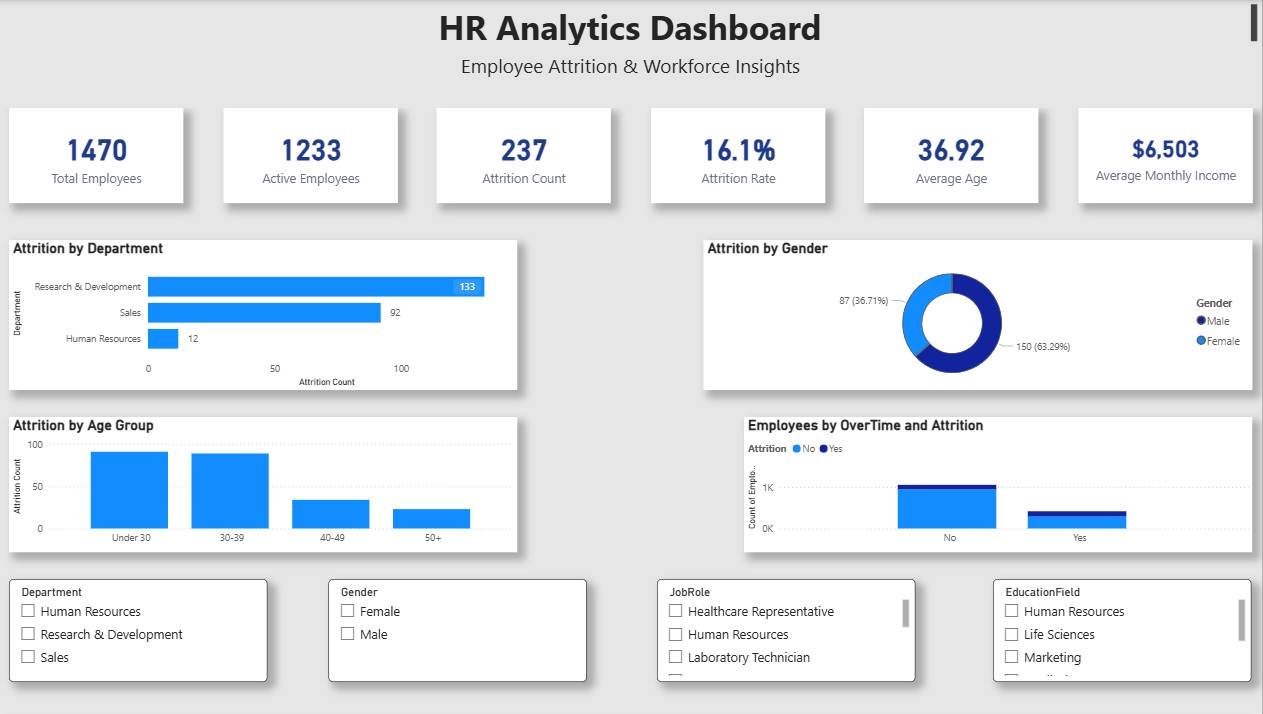

Layout of this report page (visuals, bound fields, positions):
{"tool":"powerbi","page":{"name":"HR Analytics Dashboard","canvas":[1600,900],"ordinal":0},"visuals":[{"type":"card","fields":{"Values":["WA_Fn-UseC_-HR-Employee-Attrition.Total Employees"]},"box":[18.9,137,220,120],"z":0},{"type":"card","fields":{"Values":["WA_Fn-UseC_-HR-Employee-Attrition.Active Employees"]},"box":[288.7,137,220,120],"z":1},{"type":"card","fields":{"Values":["WA_Fn-UseC_-HR-Employee-Attrition.Attrition Count"]},"box":[558.4,137,220,120],"z":2},{"type":"card","fields":{"Values":["WA_Fn-UseC_-HR-Employee-Attrition.Attrition Rate"]},"box":[828.2,137,220,120],"z":3},{"type":"card","fields":{"Values":["WA_Fn-UseC_-HR-Employee-Attrition.Average Age"]},"box":[1098,137,220,120],"z":4},{"type":"card","fields":{"Values":["WA_Fn-UseC_-HR-Employee-Attrition.Average Monthly Income"]},"box":[1367.7,137,220,120],"z":5},{"type":"clusteredBarChart","title":"Attrition by Department","fields":{"Category":["WA_Fn-UseC_-HR-Employee-Attrition.Department"],"Y":["WA_Fn-UseC_-HR-Employee-Attrition.Attrition Count"]},"box":[18.9,302.8,641.6,189.3],"z":6},{"type":"donutChart","title":"Attrition by Gender","fields":{"Category":["WA_Fn-UseC_-HR-Employee-Attrition.Gender"],"Y":["WA_Fn-UseC_-HR-Employee-Attrition.Attrition Count"]},"box":[895.3,302.8,692.7,189.3],"z":7},{"type":"clusteredColumnChart","title":"Attrition by Age Group","fields":{"Category":["WA_Fn-UseC_-HR-Employee-Attrition.Age Group"],"Y":["WA_Fn-UseC_-HR-Employee-Attrition.Attrition Count"]},"box":[18.9,526.2,641.6,170.3],"z":8},{"type":"columnChart","title":"Employees by OverTime and Attrition","fields":{"Category":["WA_Fn-UseC_-HR-Employee-Attrition.OverTime"],"Series":["WA_Fn-UseC_-HR-Employee-Attrition.Attrition"],"Y":["CountNonNull(WA_Fn-UseC_-HR-Employee-Attrition.EmployeeCount)"]},"box":[946.4,526.2,641.6,170.3],"z":9},{"type":"slicer","title":"Department","fields":{"Values":["WA_Fn-UseC_-HR-Employee-Attrition.Department"]},"box":[18.9,729.9,326,129.9],"z":10},{"type":"slicer","title":"Gender","fields":{"Values":["WA_Fn-UseC_-HR-Employee-Attrition.Gender"]},"box":[422.8,729.9,326,129.9],"z":11},{"type":"slicer","fields":{"Values":["WA_Fn-UseC_-HR-Employee-Attrition.JobRole"]},"box":[836.2,729.9,326,129.9],"z":12},{"type":"slicer","fields":{"Values":["WA_Fn-UseC_-HR-Employee-Attrition.EducationField"]},"box":[1261.4,729.9,326,129.9],"z":13},{"type":"textbox","box":[0,0,1599.2,61.4],"z":14},{"type":"textbox","box":[0,61.4,1599.2,75.6],"z":15}]}

Visuals, with their boxes in screenshot pixels (x1, y1, x2, y2), scaled from the page's 1600x900 canvas onto the 1263x714 screenshot:
card - WA_Fn-UseC_-HR-Employee-Attrition.Total Employees: [15,109,189,204]
card - WA_Fn-UseC_-HR-Employee-Attrition.Active Employees: [228,109,402,204]
card - WA_Fn-UseC_-HR-Employee-Attrition.Attrition Count: [441,109,614,204]
card - WA_Fn-UseC_-HR-Employee-Attrition.Attrition Rate: [654,109,827,204]
card - WA_Fn-UseC_-HR-Employee-Attrition.Average Age: [867,109,1040,204]
card - WA_Fn-UseC_-HR-Employee-Attrition.Average Monthly Income: [1080,109,1253,204]
"Attrition by Department" clusteredBarChart: [15,240,521,390]
"Attrition by Gender" donutChart: [707,240,1254,390]
"Attrition by Age Group" clusteredColumnChart: [15,417,521,553]
"Employees by OverTime and Attrition" columnChart: [747,417,1254,553]
"Department" slicer: [15,579,272,682]
"Gender" slicer: [334,579,591,682]
slicer - WA_Fn-UseC_-HR-Employee-Attrition.JobRole: [660,579,917,682]
slicer - WA_Fn-UseC_-HR-Employee-Attrition.EducationField: [996,579,1253,682]
textbox: [0,0,1262,49]
textbox: [0,49,1262,109]
